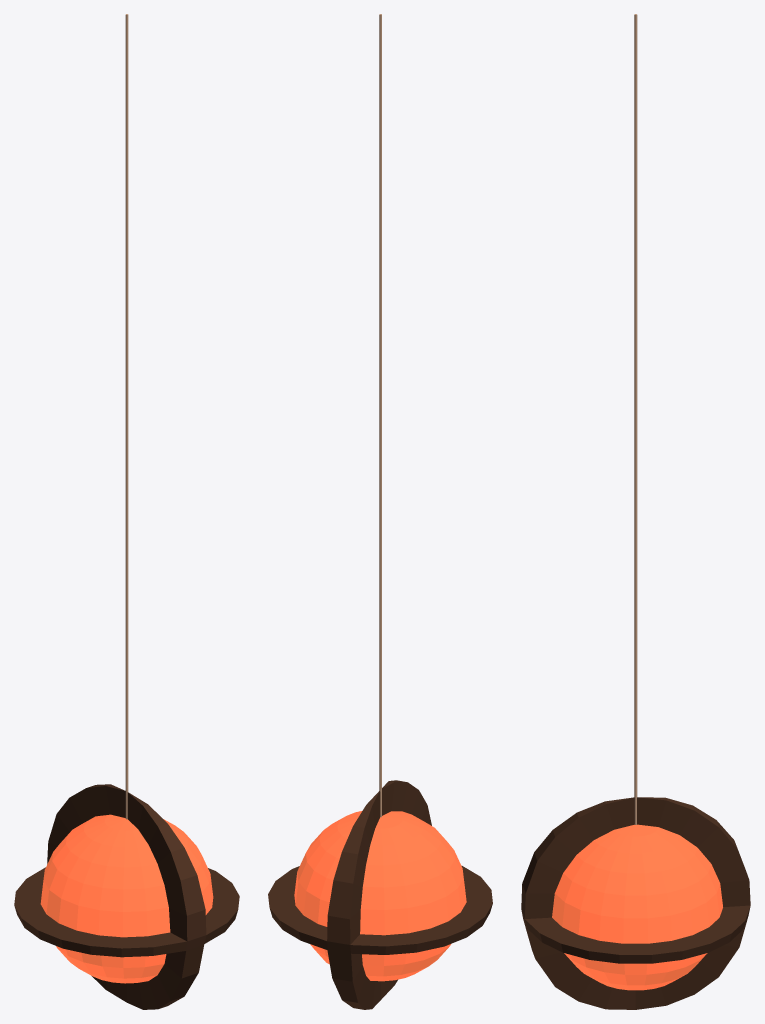
The model's file is Luce 2 Arancio .fbx.
3 views of the same model, side by side, from view 1: azimuth 30°, elevation 25°; view 2: azimuth 150°, elevation 25°; view 3: azimuth 270°, elevation 25° (orthographic).
Parts seen in each view (by area): view 1: Cylinder.376; view 2: Cylinder.376; view 3: Cylinder.376.
Boxes of the visible parts, bbox=[...] form: Cylinder.376: bbox=[14, 14, 239, 1009]; Cylinder.376: bbox=[268, 14, 492, 1009]; Cylinder.376: bbox=[521, 14, 750, 1009].
Size of the model in its own units: 49.96 by 243 by 50.75.
